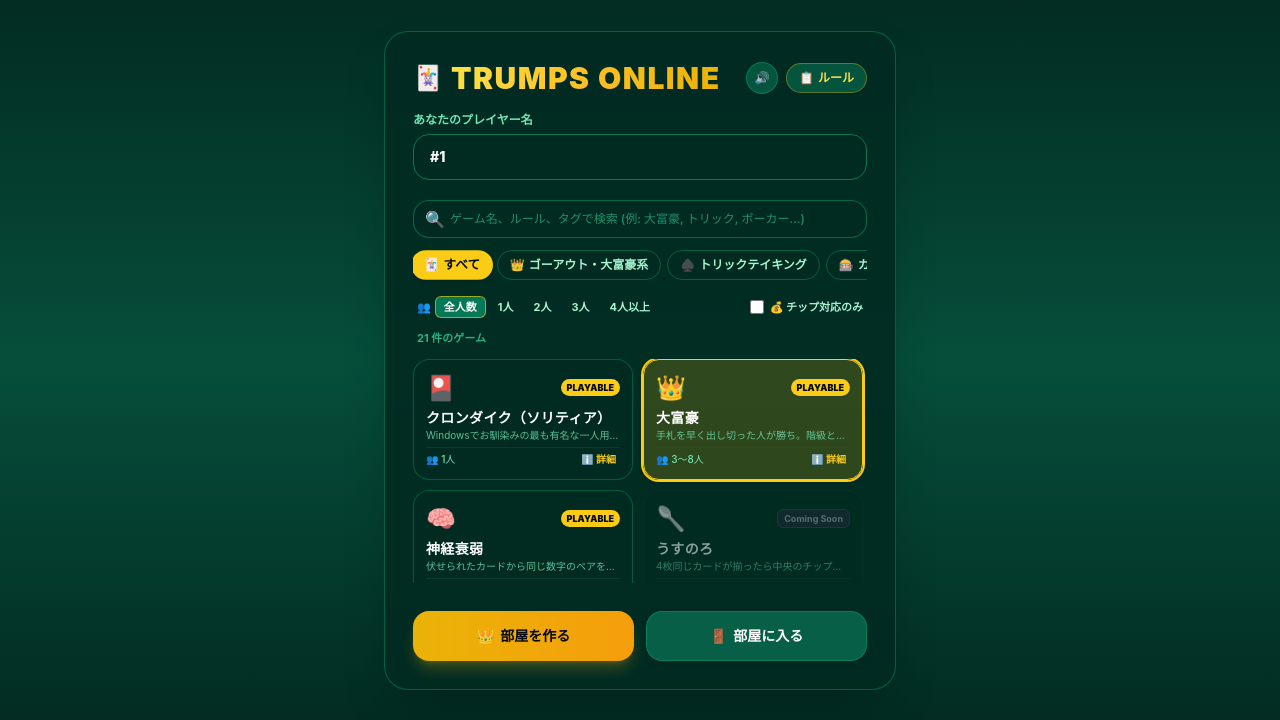
Test: Sound Mute Toggle UI › toggles sound mute state on click in LobbyScreen
Step 1. Click the button with test id "sound-toggle-button" → (762, 78), box [746,62,778,94]
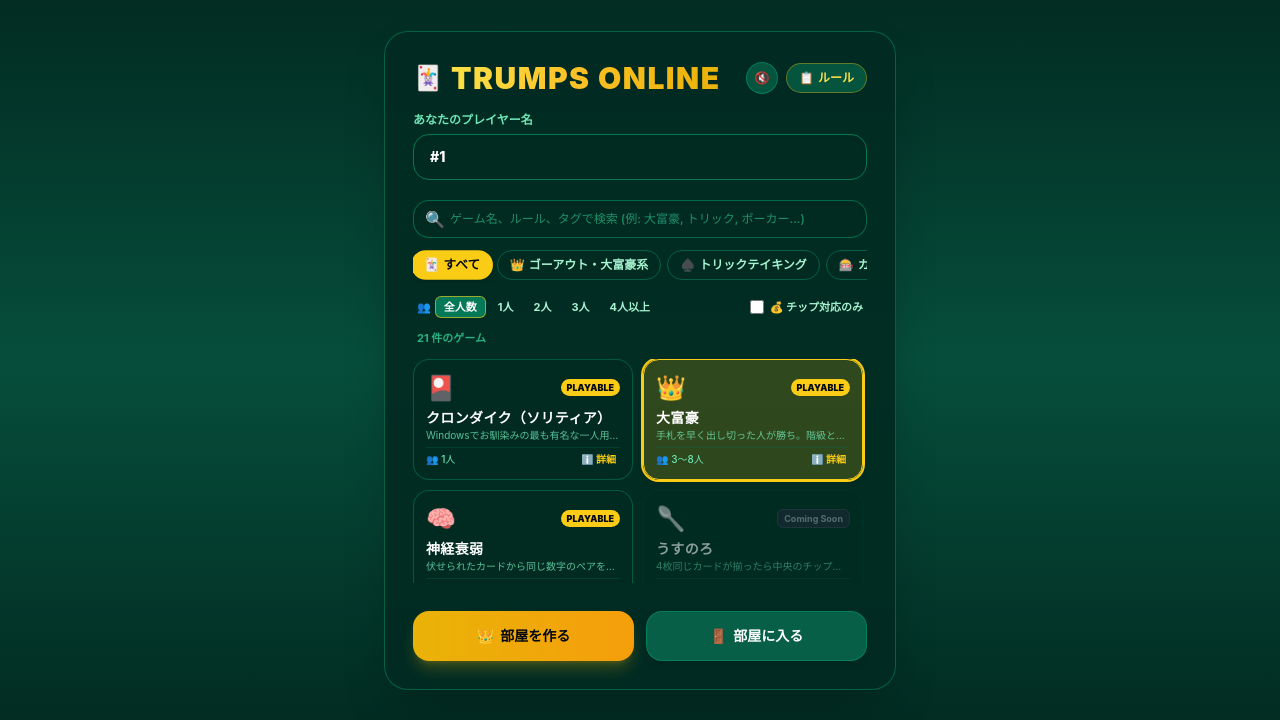
Expected: the button with test id "sound-toggle-button" reads "🔇"
Step 2. Click the button with test id "sound-toggle-button" → (762, 78), box [746,62,778,94]
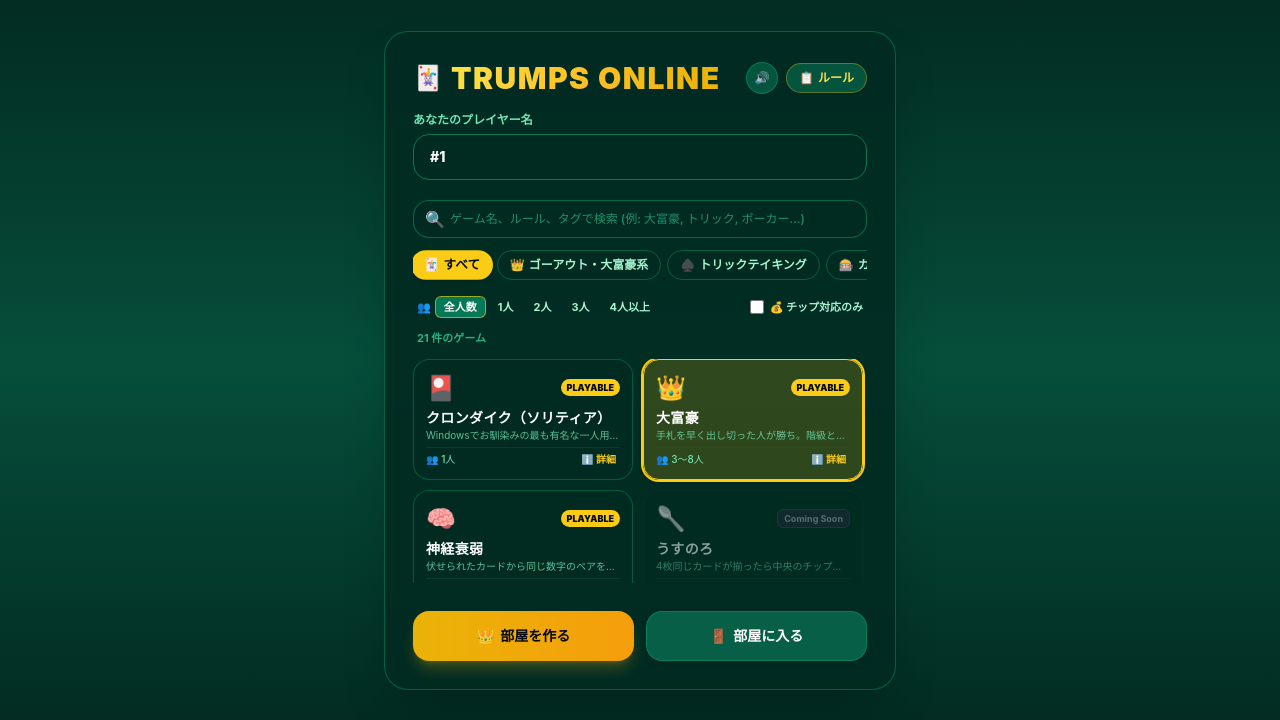
Expected: the button with test id "sound-toggle-button" reads "🔊", [746,62,778,94]
